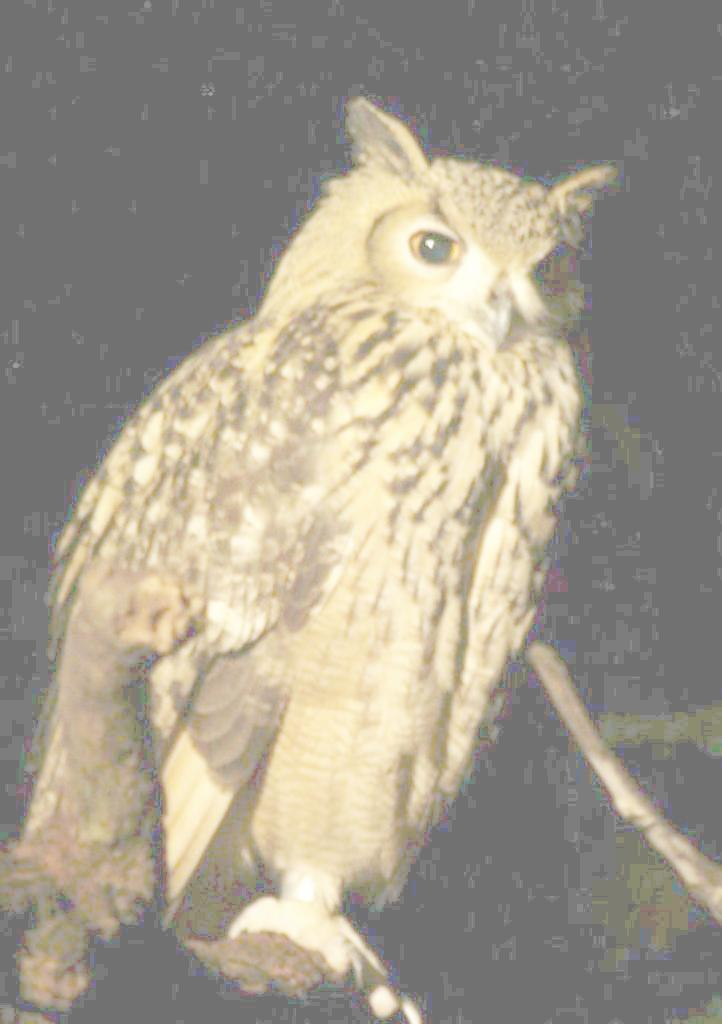Owl: (0, 100, 615, 1022)
